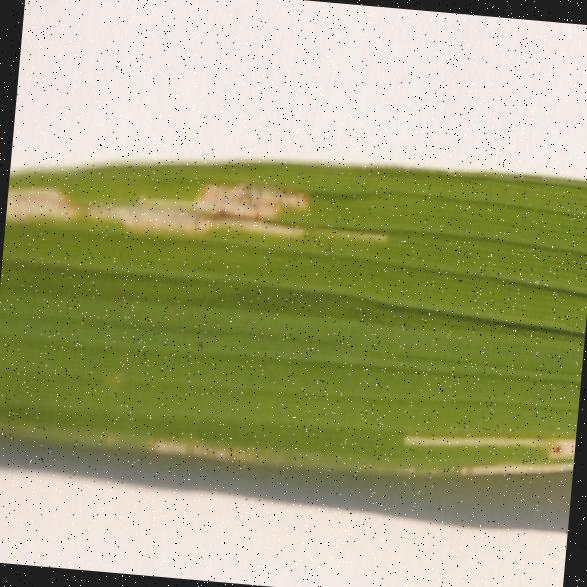Bacteria_Leaf_Blight: (4, 130, 426, 288), (382, 388, 578, 564)
